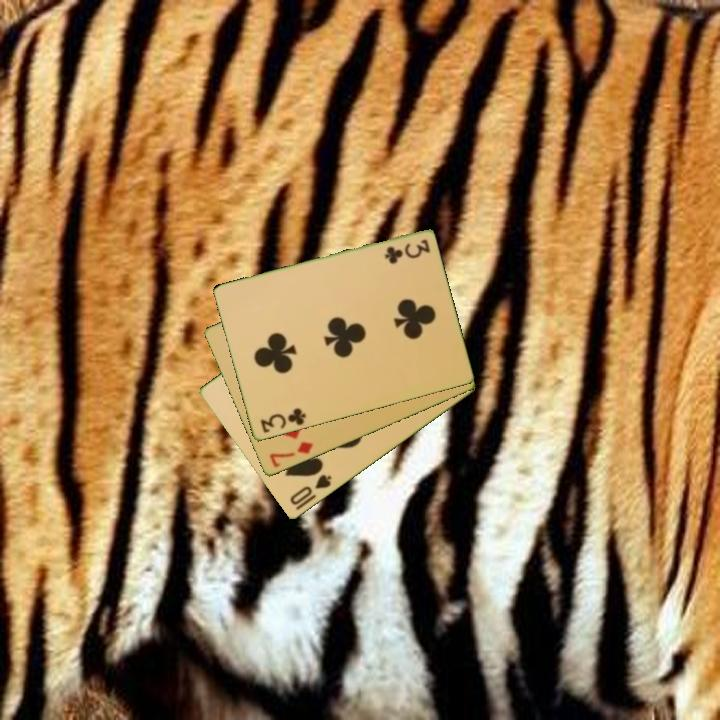10s: (286, 471, 335, 508)
3c: (257, 405, 309, 436), (381, 236, 433, 265)
7d: (265, 438, 316, 471)
